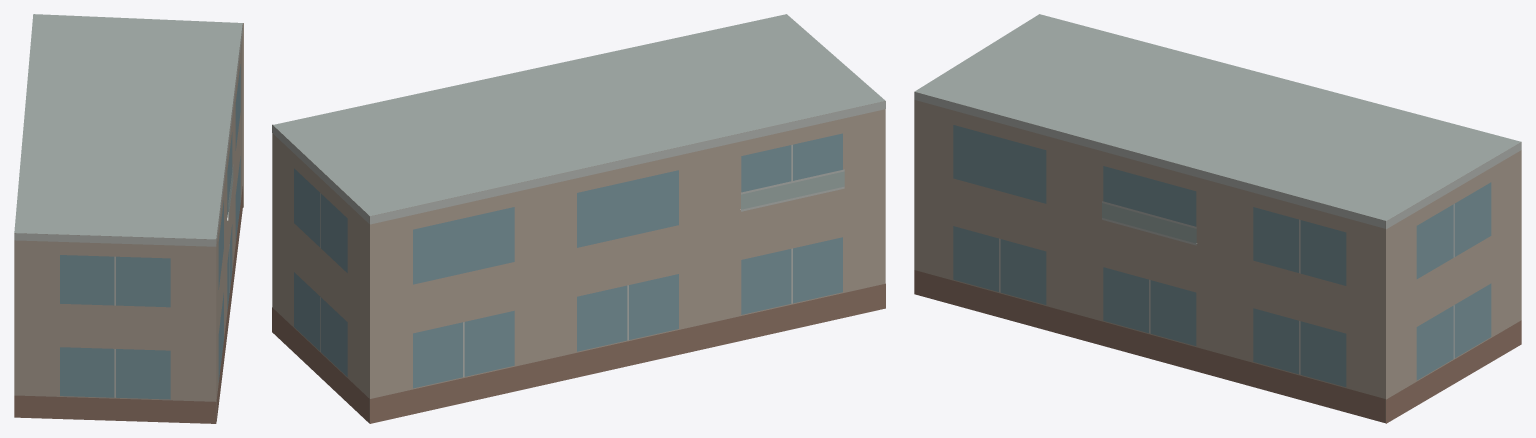
File: survey-upis-32952565.glb
3 views of the same model, side by side, from view 1: azimuth 30°, elevation 25°; view 2: azimuth 150°, elevation 25°; view 3: azimuth 270°, elevation 25° (orthographic). The views are drawn at different scales.
Parts seen in each view (by area): view 1: survey-upis-32952565.tmp; view 2: survey-upis-32952565.tmp; view 3: survey-upis-32952565.tmp.
Part boxes in pixels (<box>): survey-upis-32952565.tmp: <box>14,14,243,423</box>; survey-upis-32952565.tmp: <box>272,14,885,423</box>; survey-upis-32952565.tmp: <box>914,14,1521,423</box>.
Bounding box in the file's own units: 13.41 × 6.1 × 16.6.
